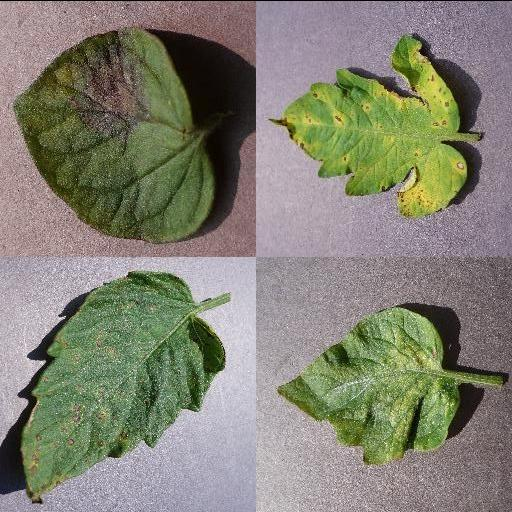Late Blight: (14, 25, 216, 243)
Septoria: (17, 268, 225, 502), (269, 31, 467, 217)
Spider Mites: (276, 306, 460, 461)
